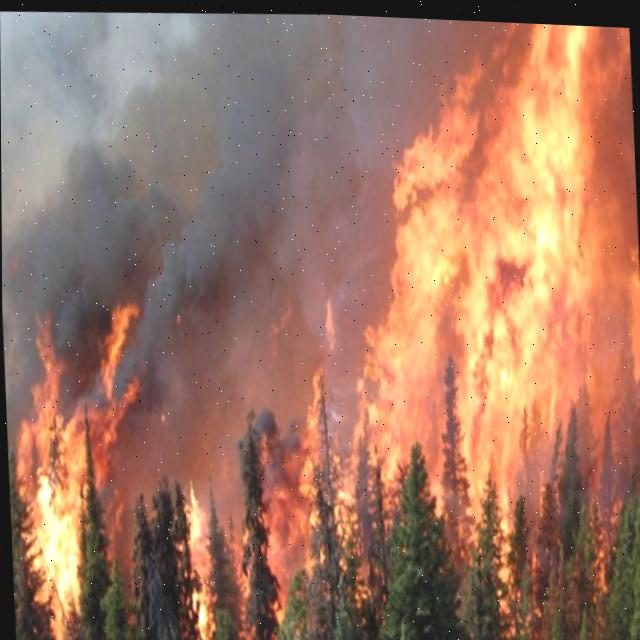fire: (348, 17, 640, 494), (13, 406, 90, 640)
smoke: (1, 11, 481, 488)
